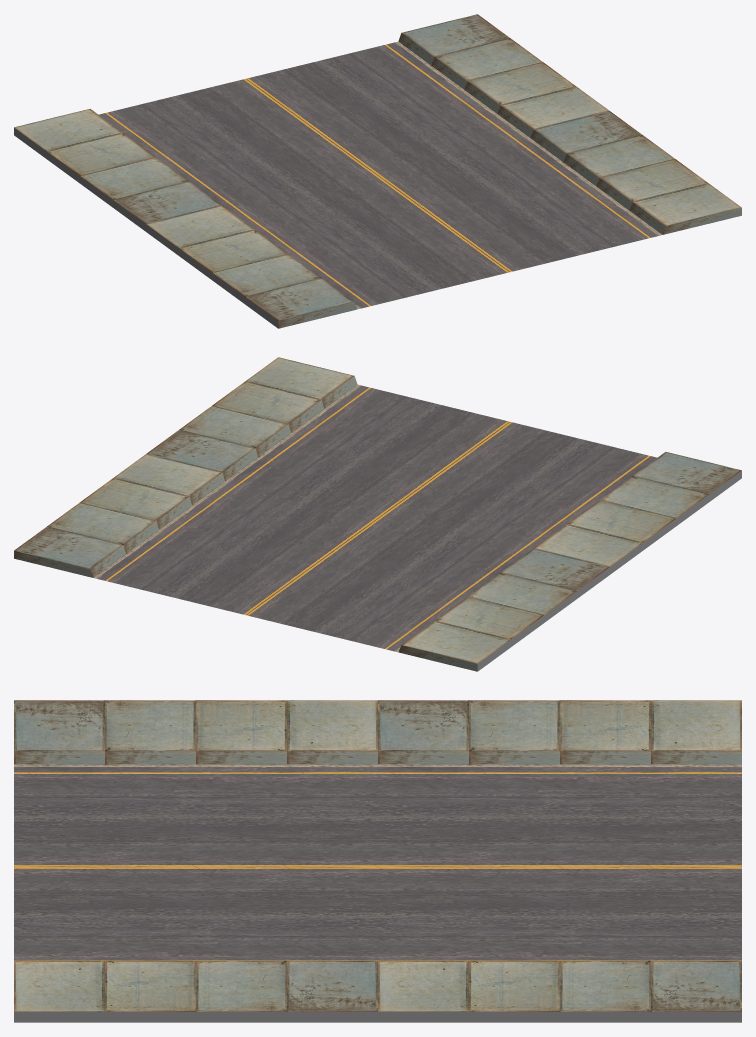
The model's file is baseRoad.FBX.
3 views of the same model, one above another, from view 1: azimuth 30°, elevation 25°; view 2: azimuth 150°, elevation 25°; view 3: azimuth 270°, elevation 25° (orthographic). The views are drawn at different scales.
Visible parts, largest first — view 1: Plane003, Plane002, Plane004, Plane001; view 2: Plane002, Plane003, Plane001, Plane004; view 3: Plane001, Plane004, Plane002, Plane003.
Boxes of the visible parts, x1,y1,x2,y2 form: Plane003: (378,111,741,271); Plane002: (246,14,609,175); Plane004: (146,175,509,328); Plane001: (14,79,377,231); Plane002: (14,454,377,614); Plane003: (146,357,509,518); Plane001: (246,518,609,671); Plane004: (378,422,741,574); Plane001: (378,700,741,866); Plane004: (14,700,377,866); Plane002: (378,867,741,1022); Plane003: (14,867,377,1022).
Size of the model in its own units: 608 by 10 by 600.
